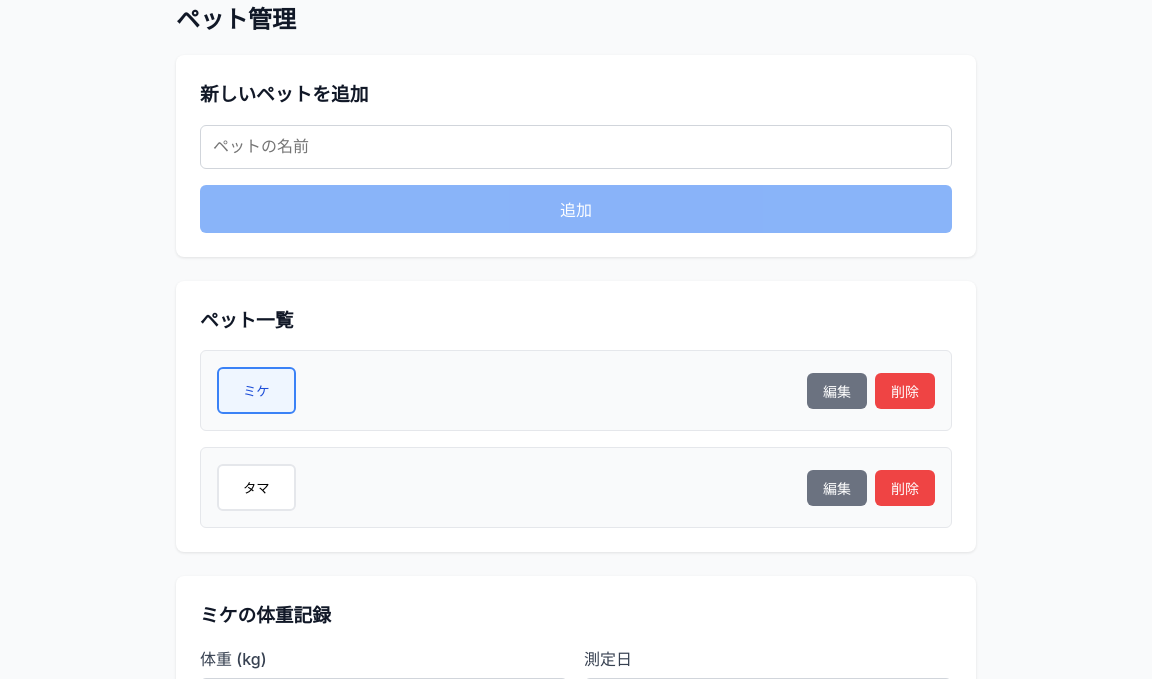
Test case: PetManagement › Pet Editing › should show edit form when edit button is clicked
Expected: the button "ミケ" is shown, x1=217 y1=367 x2=296 y2=414
Step 1. Click the 1st button "編集" → (837, 391), box x1=807 y1=373 x2=867 y2=409
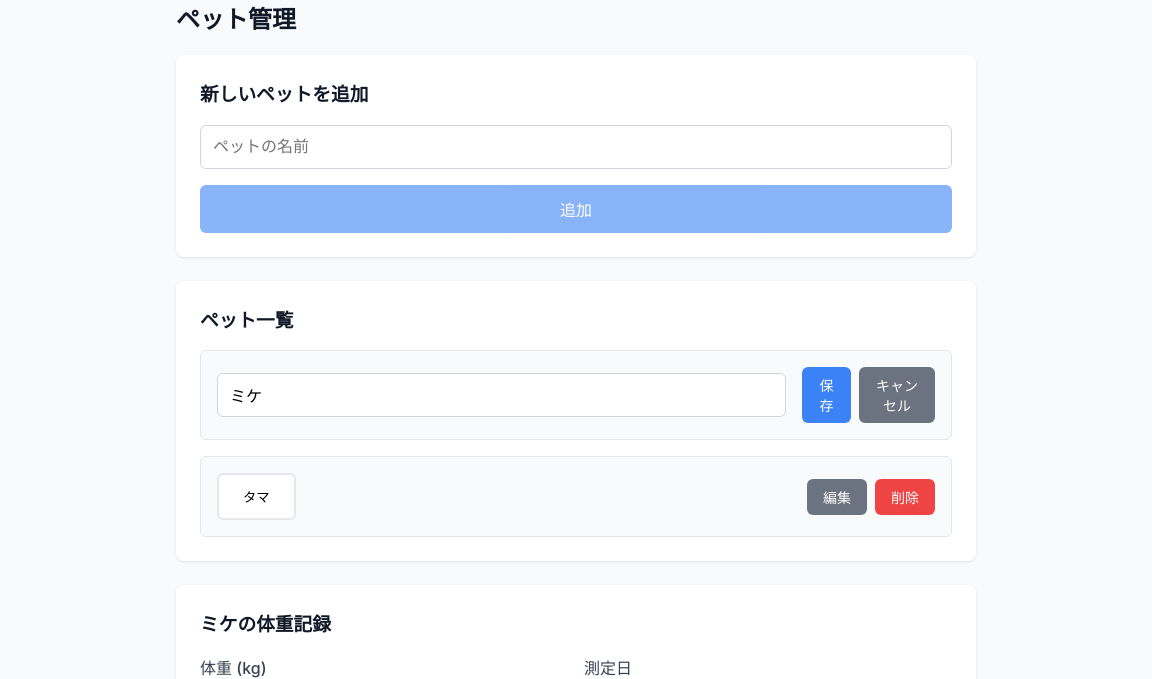
Expected: the button "保存" is shown, x1=802 y1=367 x2=851 y2=423
Expected: the button "キャンセル" is shown, x1=859 y1=367 x2=935 y2=423
